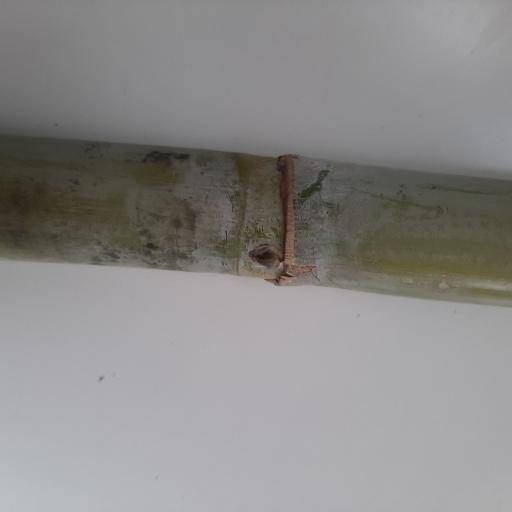Bud: (249, 246, 283, 270)
